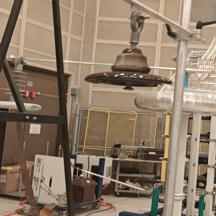insulator: (78, 43, 183, 99)
